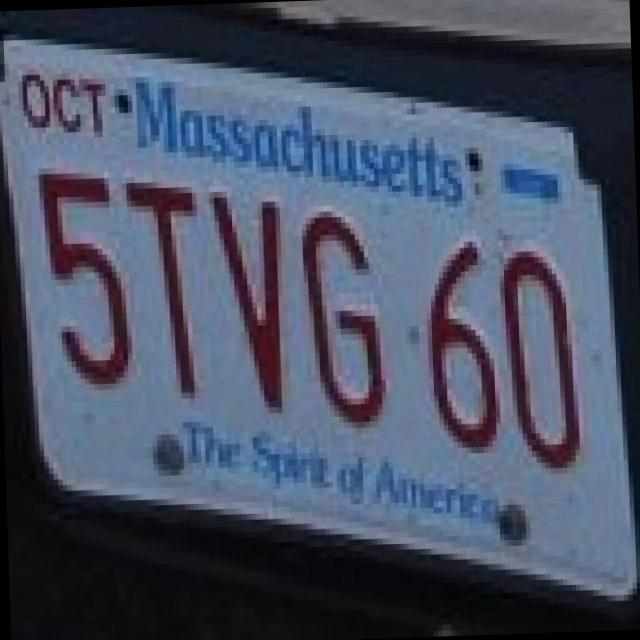0: (485, 232, 585, 475)
5: (20, 153, 133, 392)
6: (406, 217, 506, 455)
G: (282, 192, 396, 424)
T: (112, 157, 212, 400)
V: (196, 171, 294, 415)
